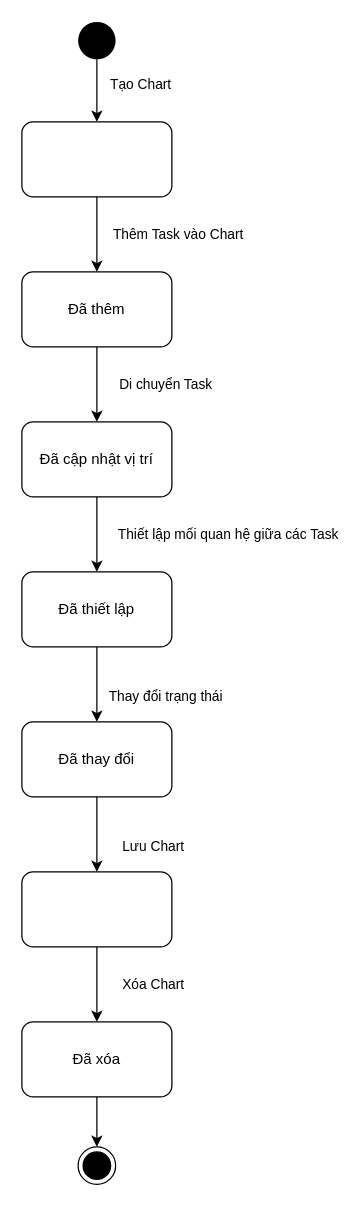
This 360x1206 diagram has some shape labels left out. Each missing label, with the box of its shape:
Đã lưu: (21, 871, 172, 947)
Đã tạo: (21, 121, 172, 197)
